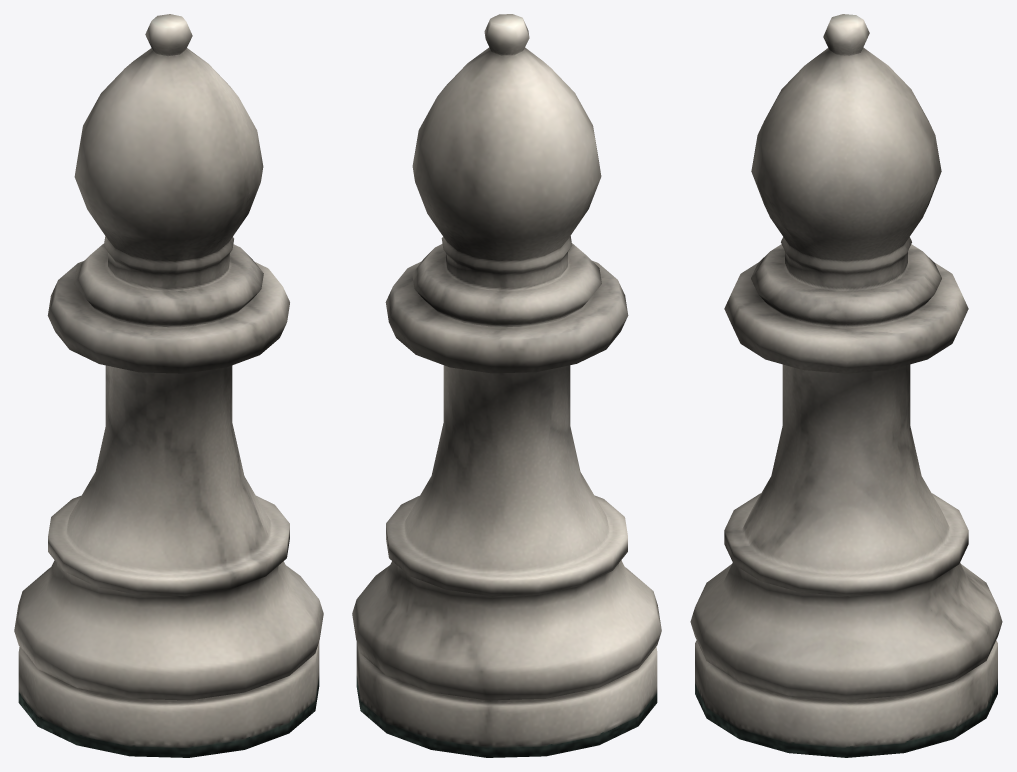
The model's file is ChessPieces_Bishop_White.gltf.
The picture shows the model from 3 angles, left to right: view 1: azimuth 30°, elevation 25°; view 2: azimuth 150°, elevation 25°; view 3: azimuth 270°, elevation 25°; orthographic projection.
Visible parts, largest first — view 1: ChessPieces_Bishop_White; view 2: ChessPieces_Bishop_White; view 3: ChessPieces_Bishop_White.
Boxes of the visible parts, x1,y1,x2,y2 form: ChessPieces_Bishop_White: (14, 14, 323, 757); ChessPieces_Bishop_White: (352, 14, 661, 757); ChessPieces_Bishop_White: (690, 14, 1002, 757).
Size of the model in its own units: 0.0277 by 0.0658 by 0.0277.
Materials: 1 (1 with a texture image).
